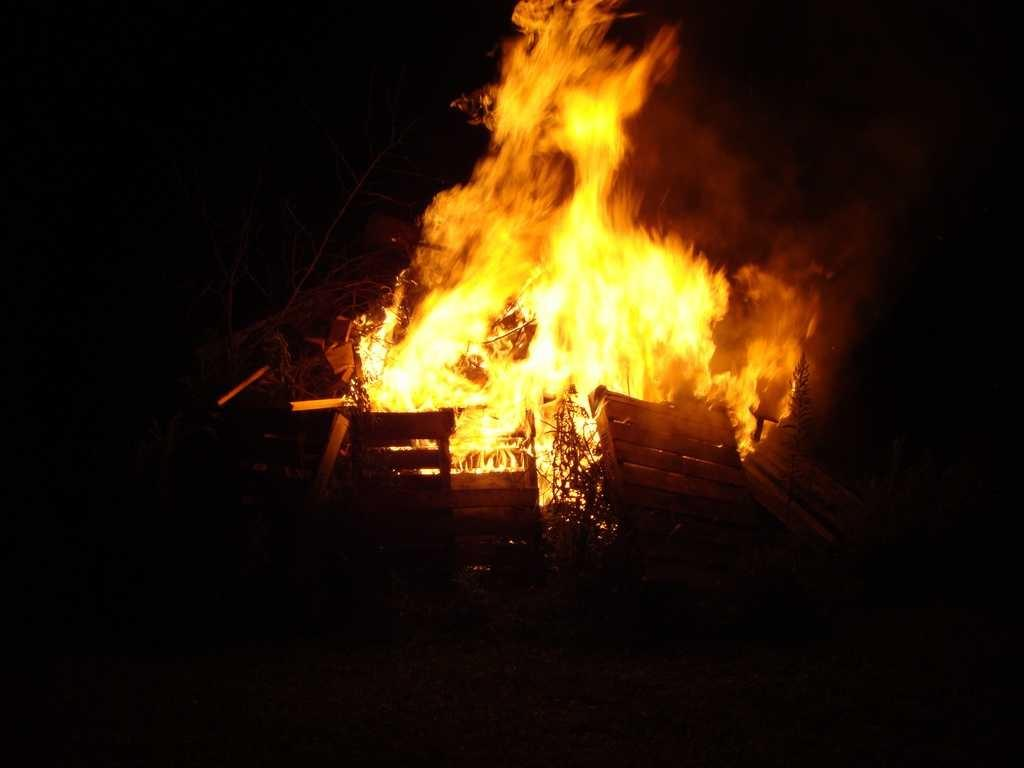fire: (412, 252, 760, 406), (484, 12, 660, 236)
